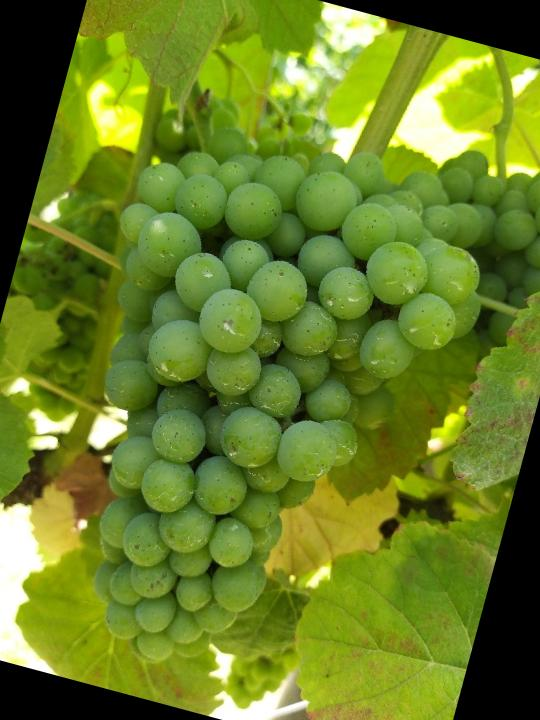grape: (11, 97, 521, 720)
